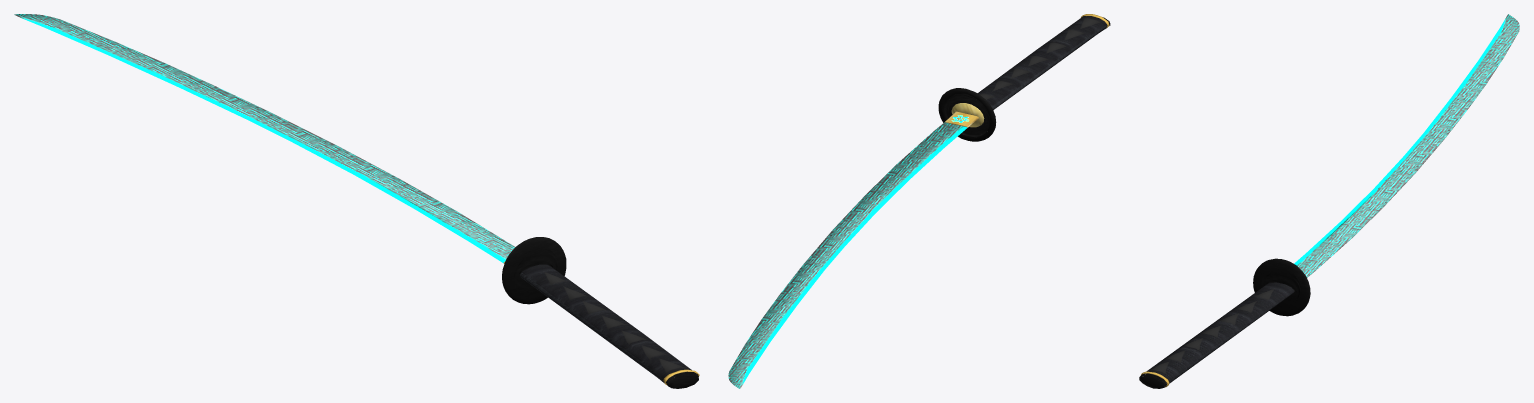
Rendered from Katana_Muramasa.fbx.
3 renders of one model, left to right at view 1: azimuth 30°, elevation 25°; view 2: azimuth 150°, elevation 25°; view 3: azimuth 330°, elevation 25°, orthographic. The views are drawn at different scales.
Visible parts, largest first — view 1: Katana_Muramasa; view 2: Katana_Muramasa; view 3: Katana_Muramasa.
Part boxes in pixels (box(x1,y1,x2,y2)): Katana_Muramasa: box(14, 14, 699, 388); Katana_Muramasa: box(728, 14, 1110, 388); Katana_Muramasa: box(1139, 14, 1519, 388).
Size of the model in its own units: 326 by 122 by 1912.
Materials: 1 (1 with a texture image).
